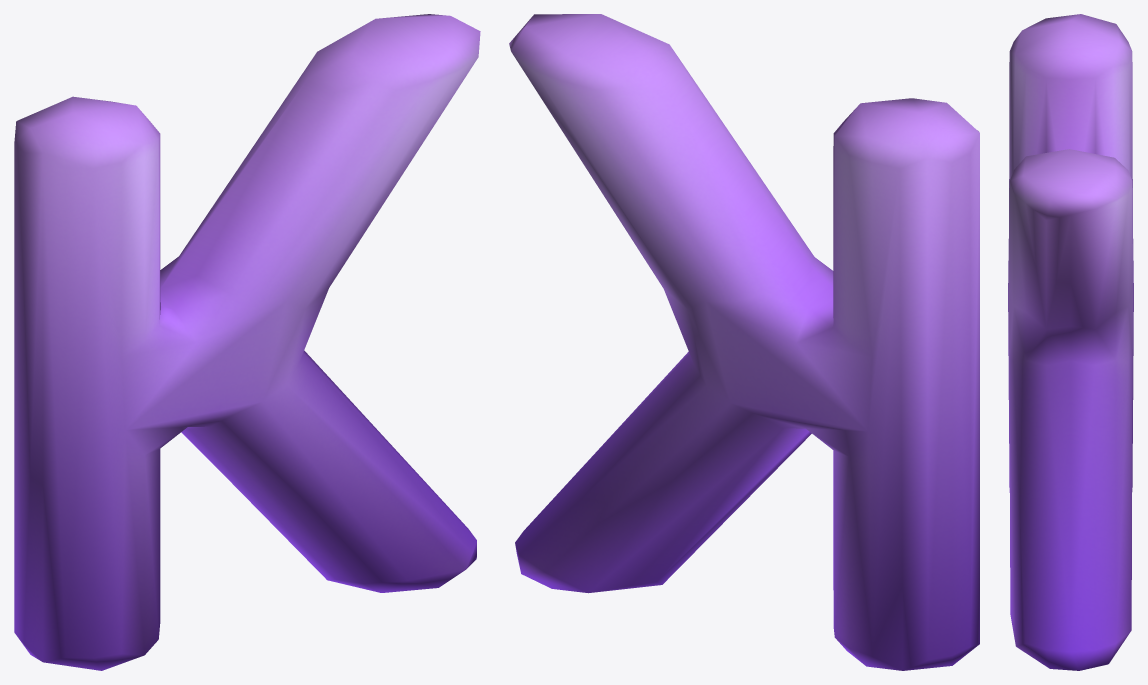
3 renders of one model, left to right at view 1: azimuth 30°, elevation 25°; view 2: azimuth 150°, elevation 25°; view 3: azimuth 270°, elevation 25°, orthographic. The views are drawn at different scales.
Visible parts, largest first — view 1: Processed_Mesh0_Geometry; view 2: Processed_Mesh0_Geometry; view 3: Processed_Mesh0_Geometry.
Part boxes in pixels (x1,y1,x2,y2): Processed_Mesh0_Geometry: (14,14,480,670); Processed_Mesh0_Geometry: (509,14,979,670); Processed_Mesh0_Geometry: (1008,14,1133,670).
Size of what is drawn, in the model's own units: 0.0692 by 0.0809 by 0.0189.
Materials: 1 (1 with a texture image).
